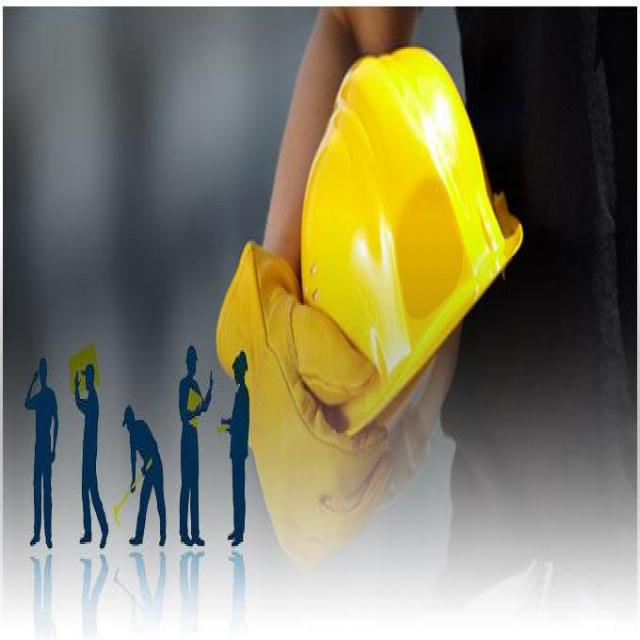Safety-Helmet: (296, 47, 524, 435), (120, 397, 136, 433), (37, 354, 51, 384), (184, 339, 200, 363)
